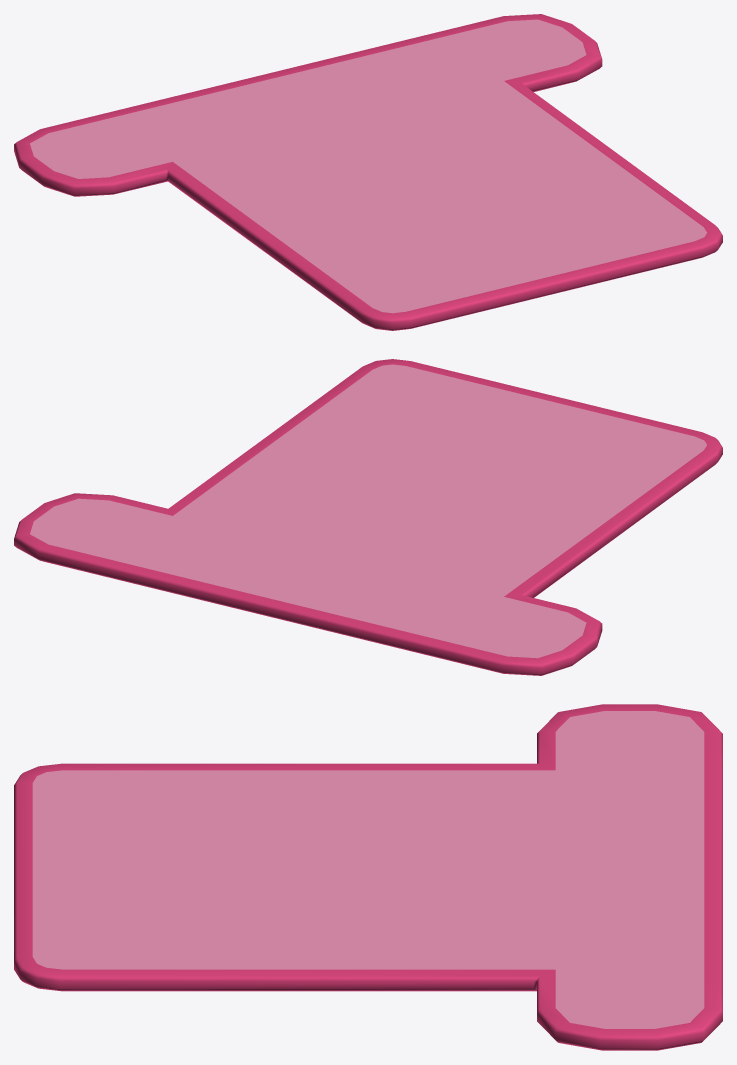
File: Isl_8_Slice_Ham_1.fbx
3 renders of one model, top to bottom at view 1: azimuth 30°, elevation 25°; view 2: azimuth 150°, elevation 25°; view 3: azimuth 270°, elevation 25°, orthographic. The views are drawn at different scales.
Visible parts, largest first — view 1: Isl_8_Slice_Ham_1; view 2: Isl_8_Slice_Ham_1; view 3: Isl_8_Slice_Ham_1.
Boxes of the visible parts, left/top/right/bottom form: Isl_8_Slice_Ham_1: left=14, top=14, right=722, bottom=330; Isl_8_Slice_Ham_1: left=14, top=359, right=722, bottom=675; Isl_8_Slice_Ham_1: left=14, top=704, right=722, bottom=1050.
Bounding box in the file's own units: 22.91 × 0.483 × 20.56.
